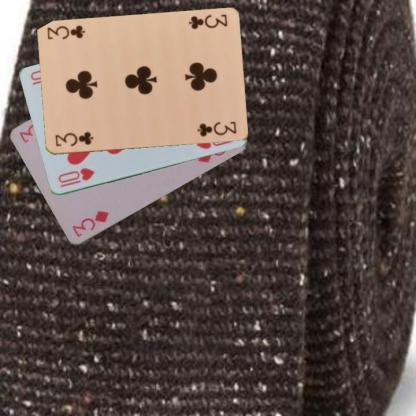10h: (56, 166, 96, 188)
3c: (186, 12, 228, 31), (53, 129, 94, 148)
3d: (69, 208, 110, 239)
